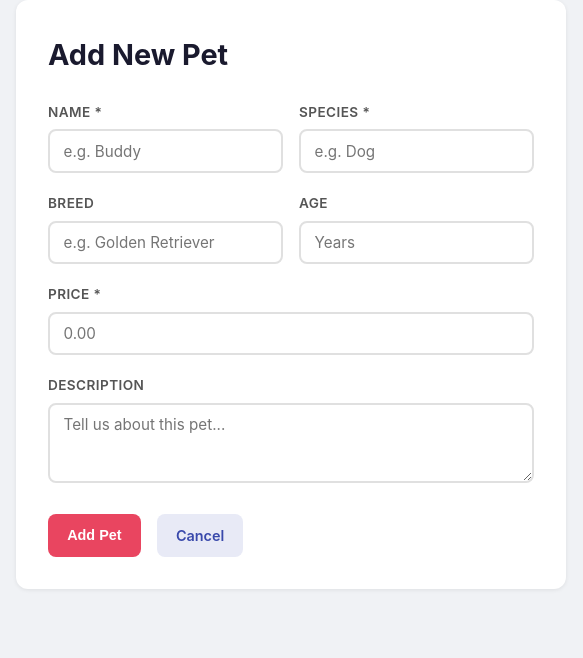
it: PetForm › shows validation errors for empty required fields on submit
This screenshot has width=583, height=658.
What coordinates should you click on to do the following:
click the button "Add Pet"
I would click on:
 (94, 536)
Its box is top-left (48, 514), bottom-right (141, 557).
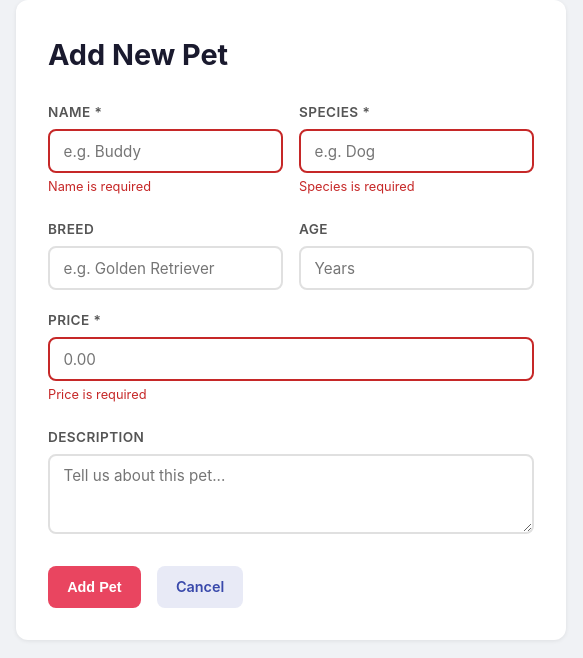
Expected: the text "Name is required" is shown, top-left (48, 179), bottom-right (151, 194)
Expected: the text "Species is required" is shown, top-left (299, 179), bottom-right (415, 194)
Expected: the text "Price is required" is shown, top-left (48, 387), bottom-right (146, 402)
